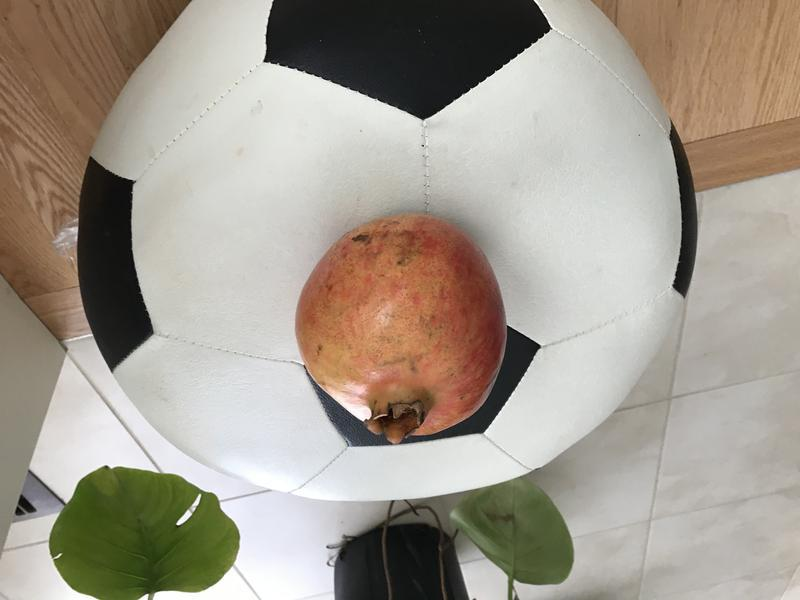pomegranate: (278, 205, 521, 457)
